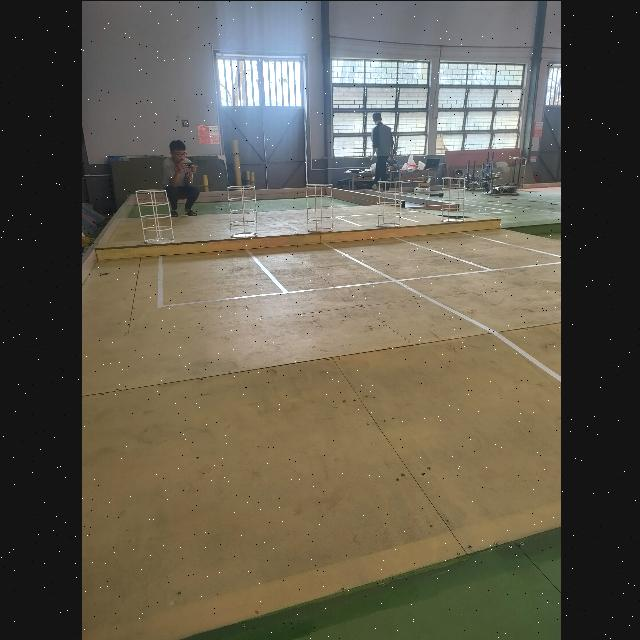S: (133, 188, 173, 244), (225, 184, 256, 238), (304, 182, 332, 232), (374, 179, 402, 227), (440, 175, 466, 222)
